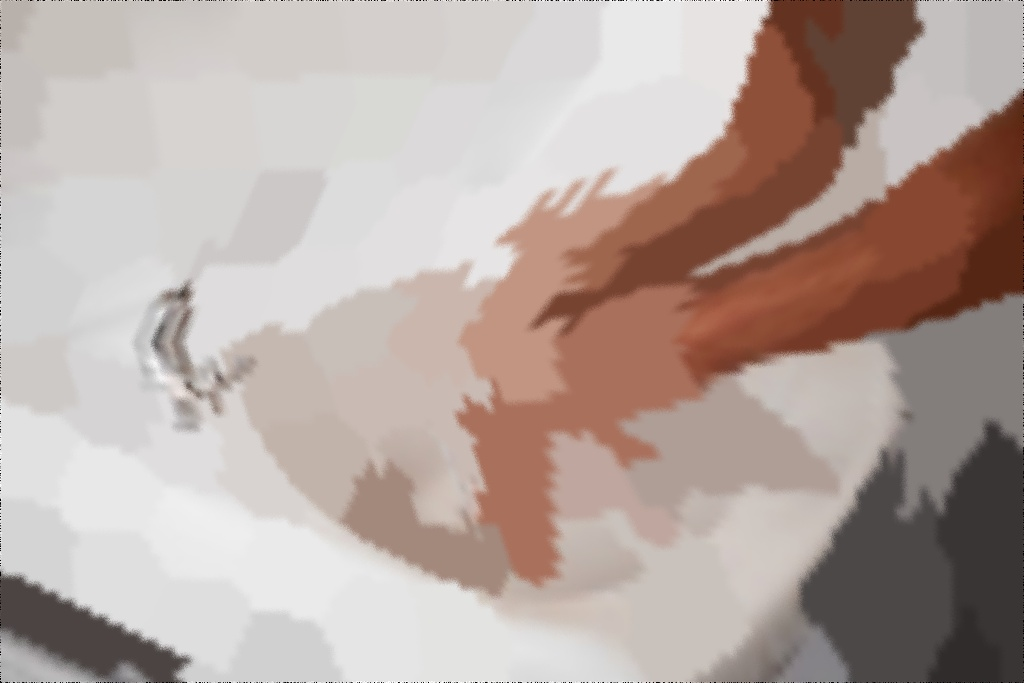washing hand: (120, 79, 832, 635)
